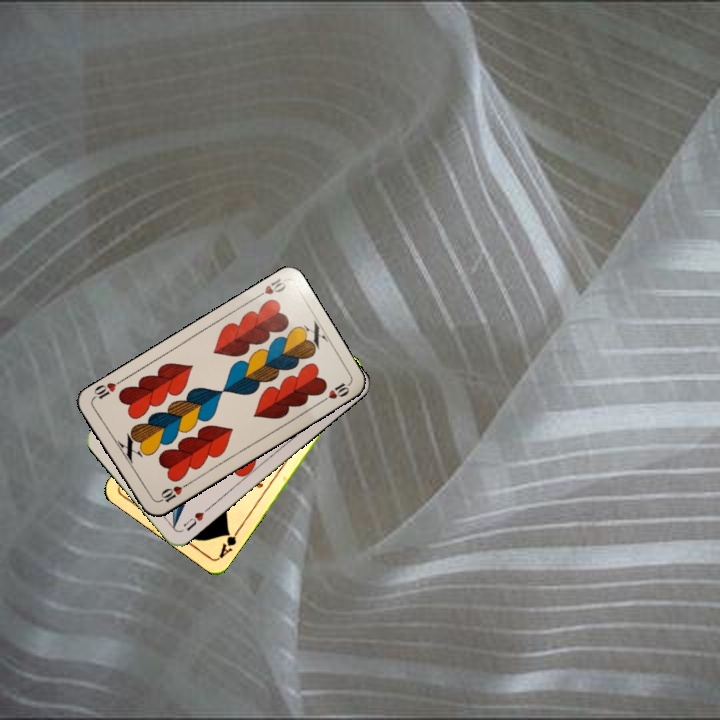GA: (215, 524, 242, 561)
H10: (250, 274, 288, 302), (154, 479, 191, 505)
HU: (179, 504, 212, 534)
